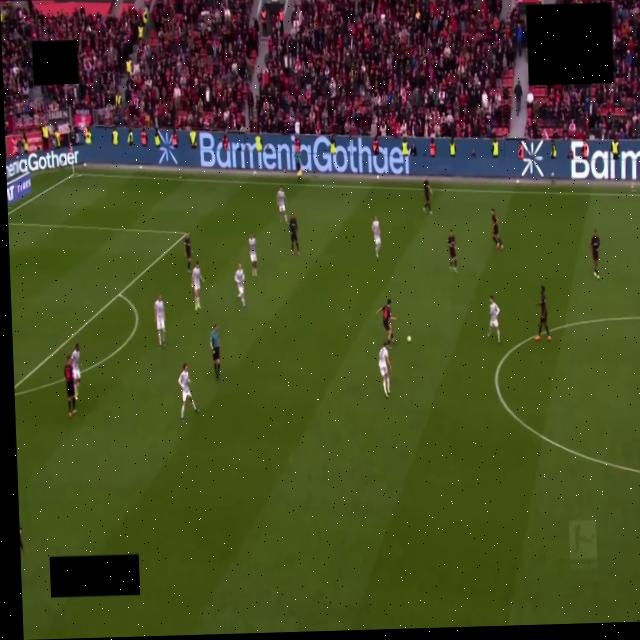ball: (407, 336, 411, 342)
player: (178, 363, 198, 420), (377, 300, 395, 347), (536, 286, 551, 341), (64, 356, 75, 417), (191, 261, 204, 310), (379, 343, 390, 397), (154, 295, 165, 348), (488, 296, 500, 343), (234, 264, 246, 308), (71, 343, 80, 399), (447, 230, 458, 273), (491, 210, 503, 249), (371, 216, 382, 258), (289, 214, 300, 255), (591, 230, 600, 279), (277, 185, 287, 223), (248, 234, 257, 276), (423, 179, 432, 214), (184, 234, 191, 272), (19, 526, 23, 552)
referee: (210, 325, 220, 380)
